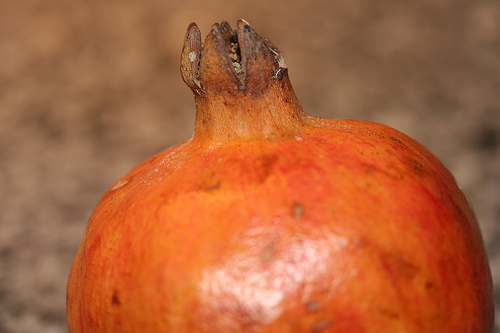pomogranate: (65, 19, 494, 332)
